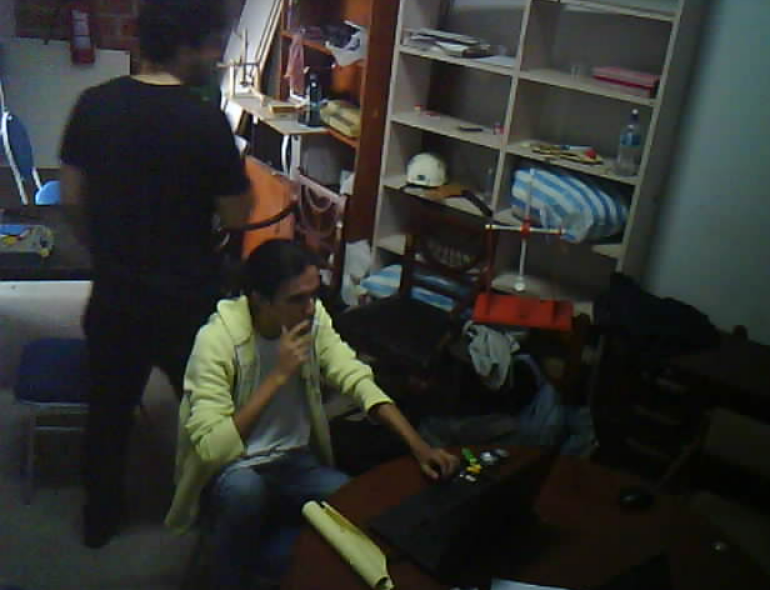person: (160, 239, 466, 590), (65, 0, 254, 561)
